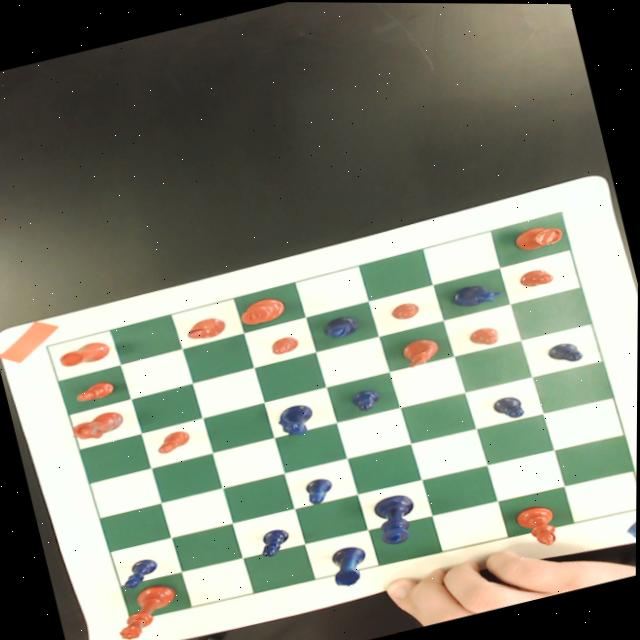B: (320, 310, 363, 340)
K: (371, 488, 424, 545)
N: (273, 399, 319, 438), (450, 276, 505, 308)
P: (253, 523, 295, 559), (118, 555, 161, 590), (544, 335, 589, 366), (490, 390, 529, 421), (303, 474, 336, 504), (349, 384, 383, 413)
R: (327, 541, 373, 587)
b: (514, 500, 562, 549), (184, 312, 227, 341)
k: (238, 292, 288, 326)
n: (67, 406, 128, 444), (397, 332, 445, 368)
p: (72, 376, 117, 404), (153, 427, 193, 454), (517, 264, 554, 289), (467, 321, 501, 347), (269, 332, 301, 355), (389, 298, 420, 320)
q: (111, 580, 185, 640)
r: (54, 337, 114, 369), (512, 218, 566, 253)
